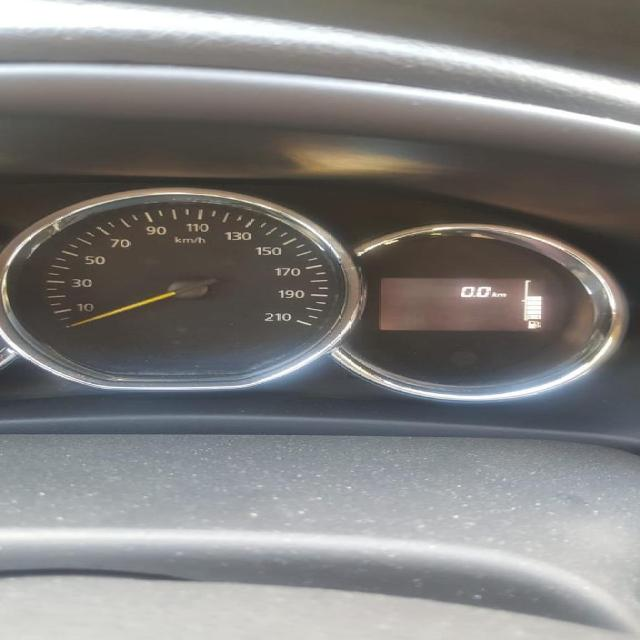odometer: (370, 274, 557, 334)
